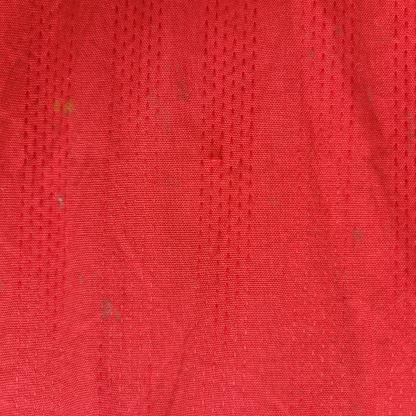spot: (95, 292, 119, 328), (49, 93, 80, 117), (174, 77, 191, 105), (54, 190, 68, 214), (350, 223, 364, 244), (333, 22, 345, 41), (305, 46, 317, 63), (74, 268, 84, 286)
